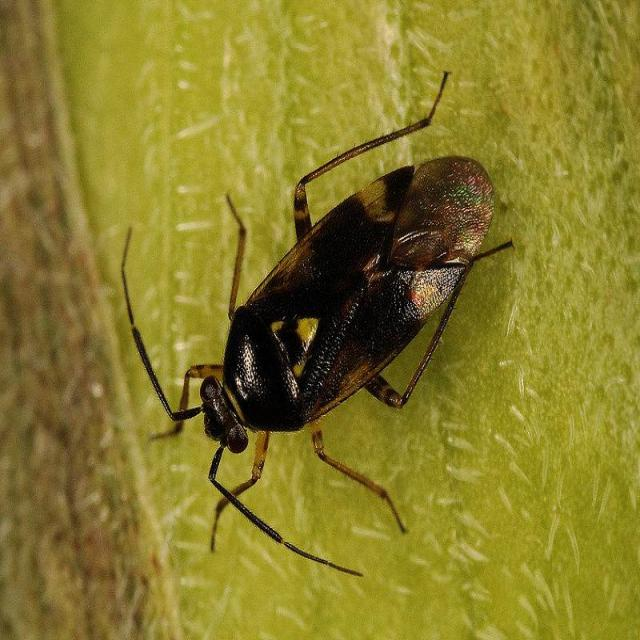Miridae-Adult-: (90, 70, 516, 600)
